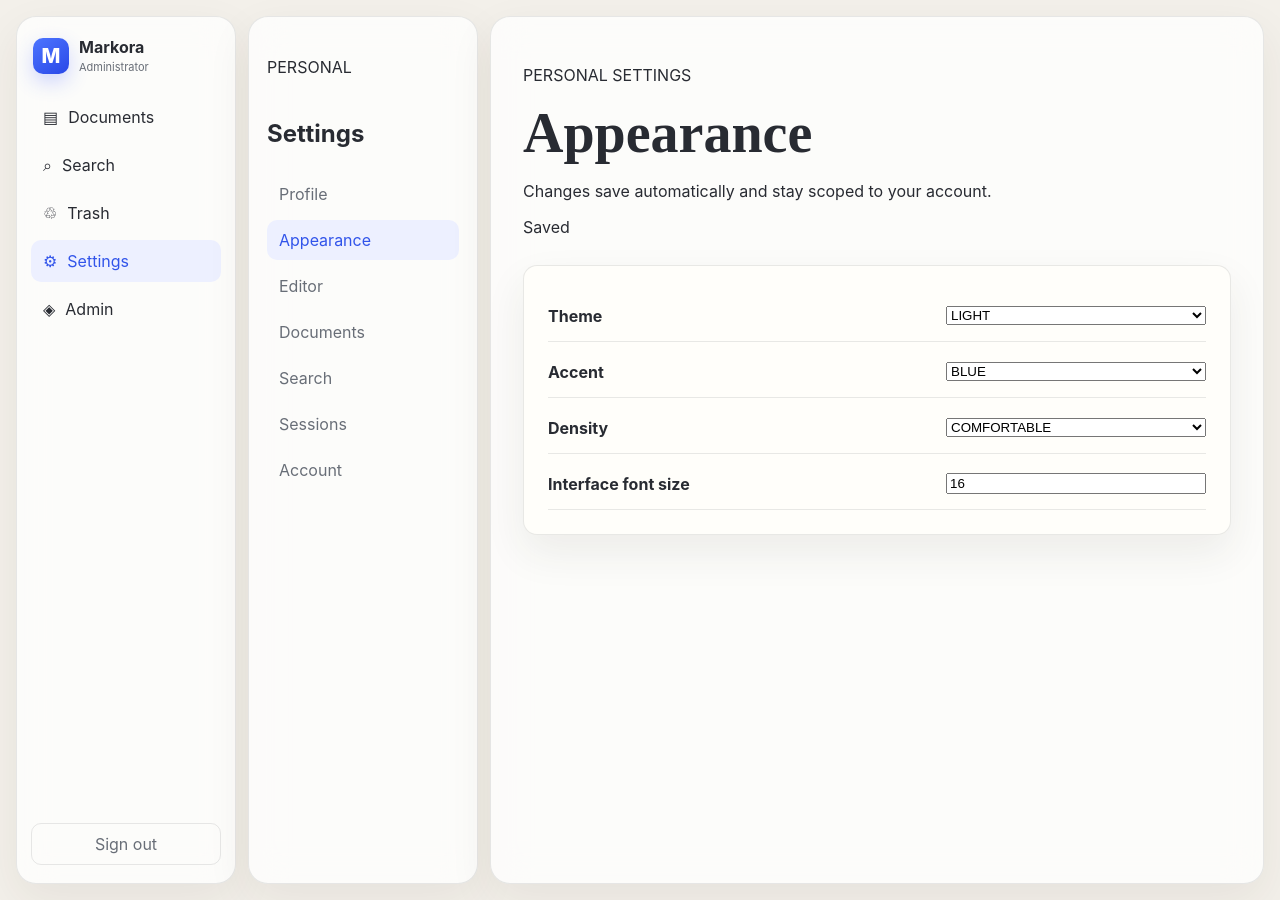
Test: Phase 7 settings and admin UI › keeps the prior preference active and gives a recovery action on save failure
The image size is (1280, 900).
Select "DARK" in the dropdown named "Theme" at point(1076, 316), box 946,306 -> 1206,325
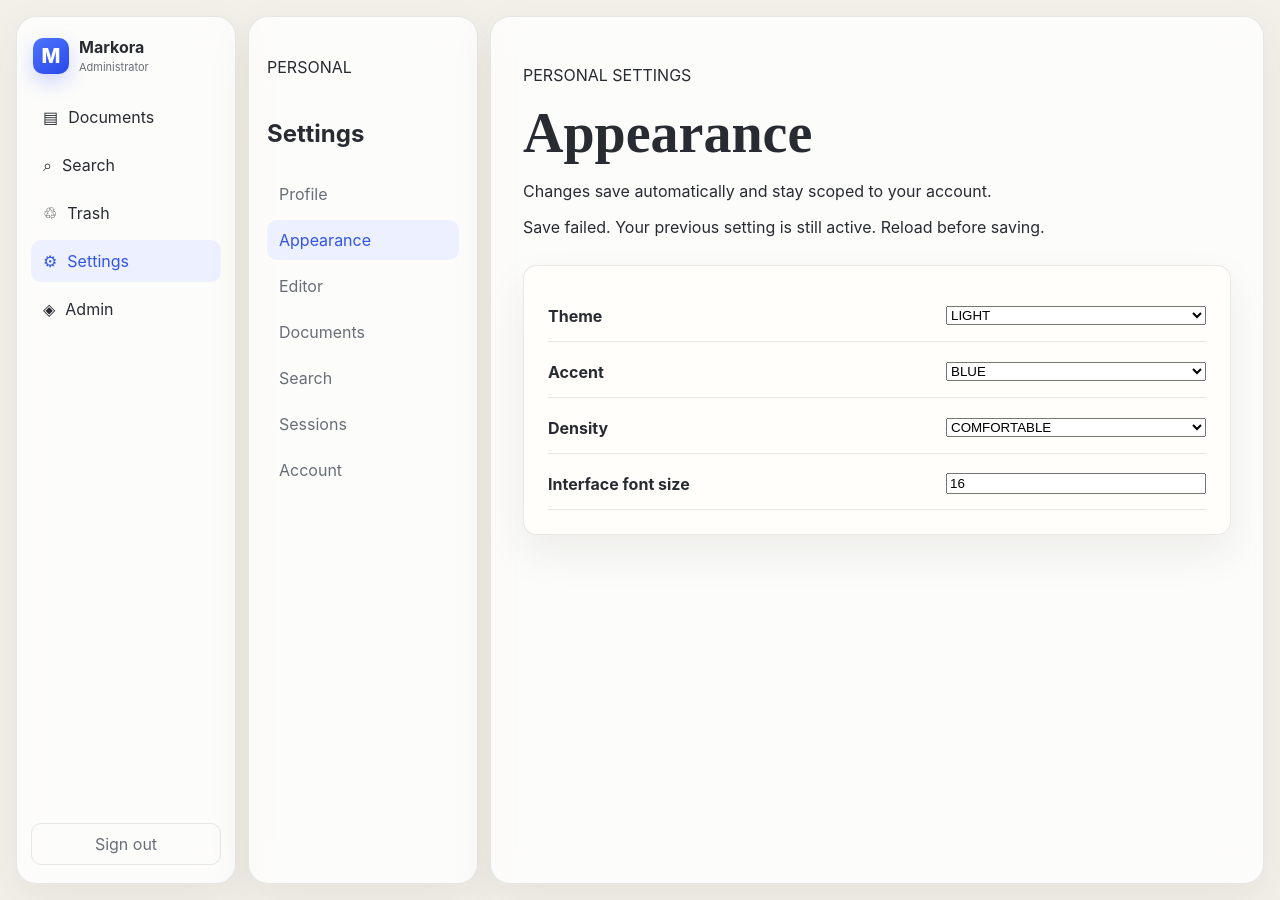
Expected: the message shows "previous setting is still active", 523,217 -> 881,237
